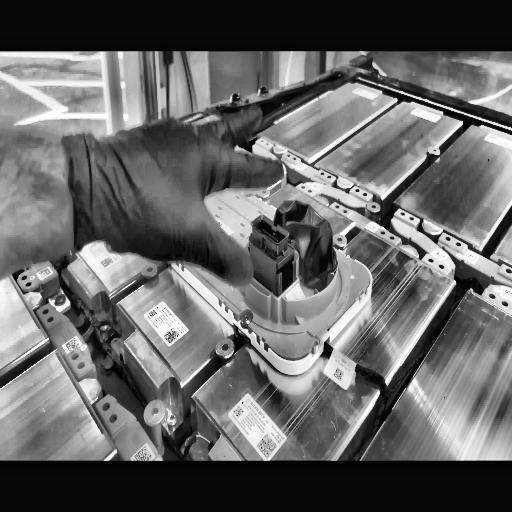battery_module: (249, 75, 512, 267)
busbar: (205, 89, 512, 315)
